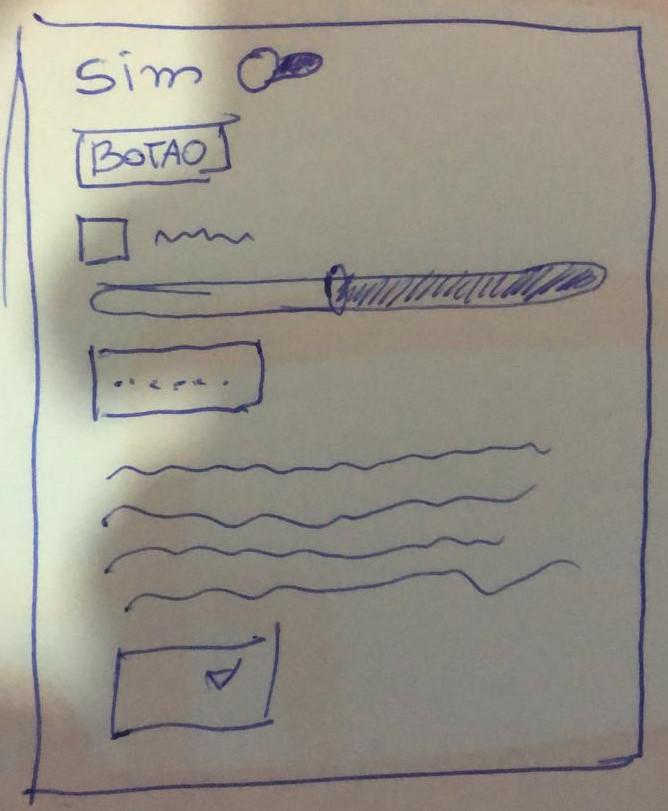Button: (89, 341, 264, 421), (76, 123, 232, 188)
CheckBox: (75, 213, 256, 266)
Label: (101, 441, 583, 614)
ListPicker: (110, 635, 280, 740)
Screen: (17, 12, 657, 797)
Slider: (88, 260, 607, 319)
Switch: (76, 46, 324, 97)
